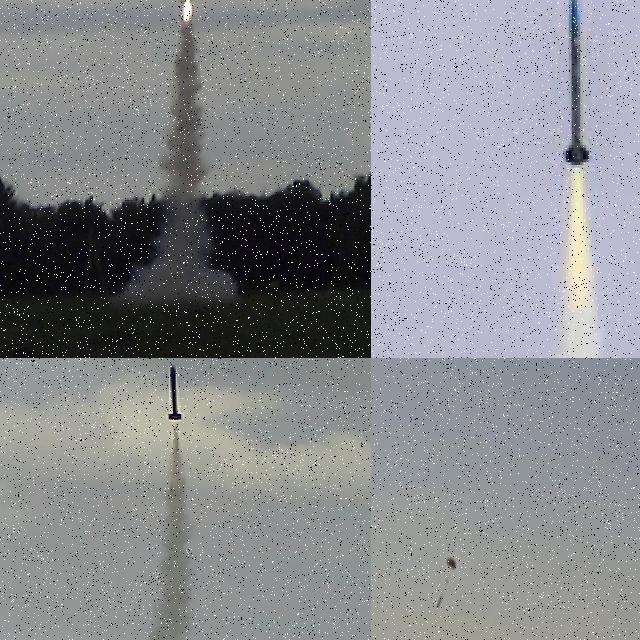Rocket: (557, 0, 596, 171), (166, 364, 183, 420)
